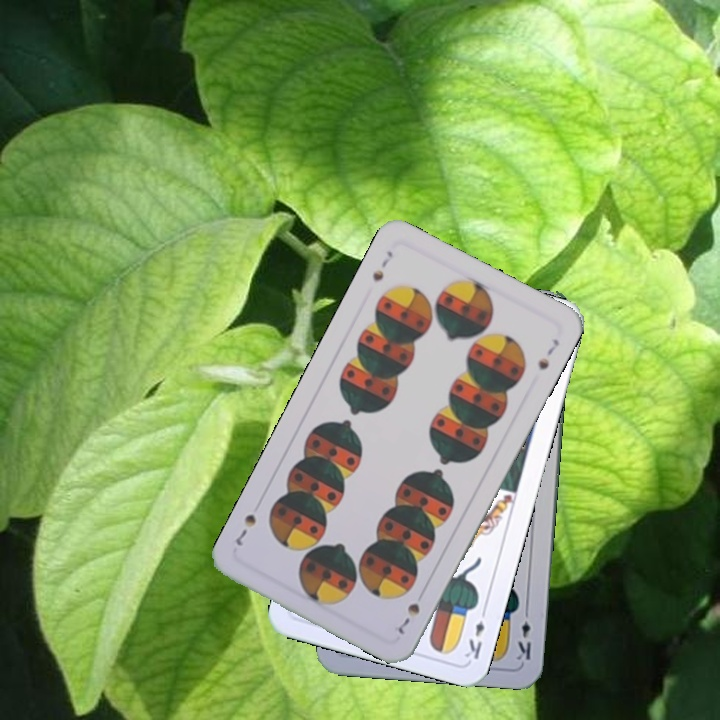EK: (460, 603, 490, 662), (512, 604, 533, 663)
S7: (391, 599, 423, 637), (368, 246, 396, 284)
